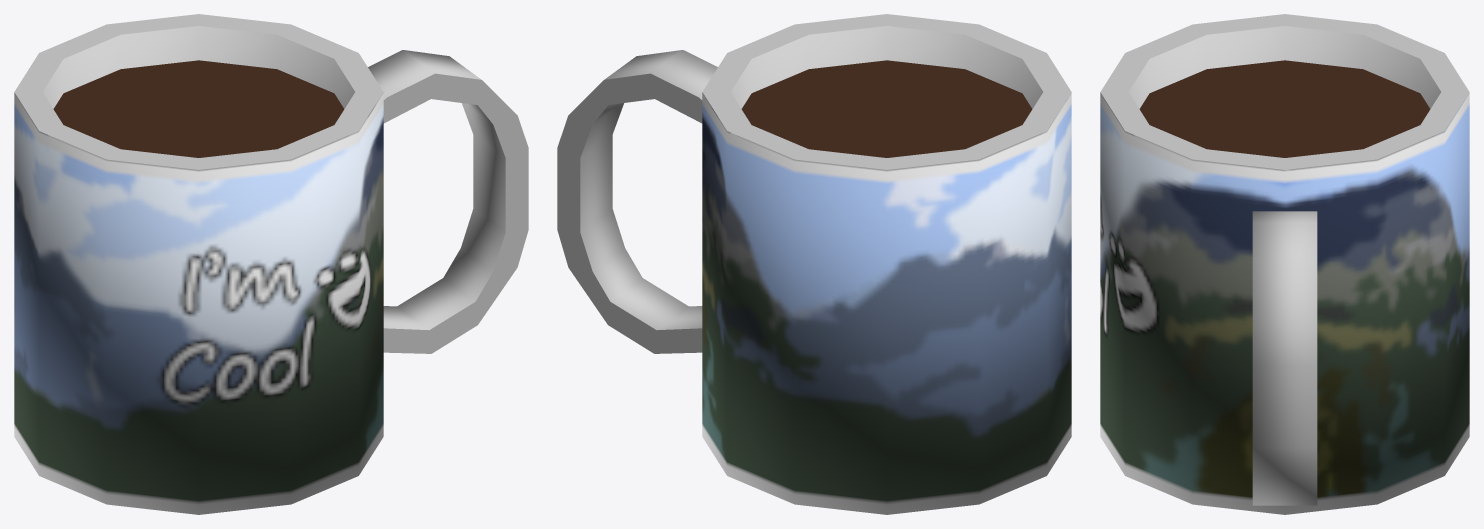
File: cup_filled.glb
The picture shows the model from 3 angles, left to right: view 1: azimuth 30°, elevation 25°; view 2: azimuth 150°, elevation 25°; view 3: azimuth 270°, elevation 25°; orthographic projection.
Visible parts, largest first — view 1: Cup (Filled); view 2: Cup (Filled); view 3: Cup (Filled).
Part boxes in pixels (left/top/right/bottom): Cup (Filled): left=14, top=14, right=528, bottom=514; Cup (Filled): left=557, top=14, right=1071, bottom=514; Cup (Filled): left=1100, top=14, right=1469, bottom=514.
Bounding box in the file's own units: 0.1674 × 0.1166 × 0.1131.
Materials: 2 (2 with a texture image).
